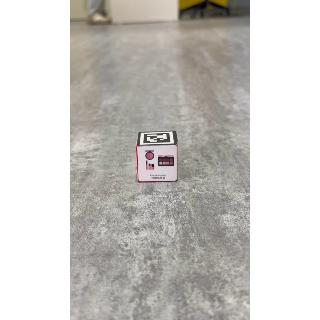Expired_Cosmetic: (138, 146, 181, 184)
